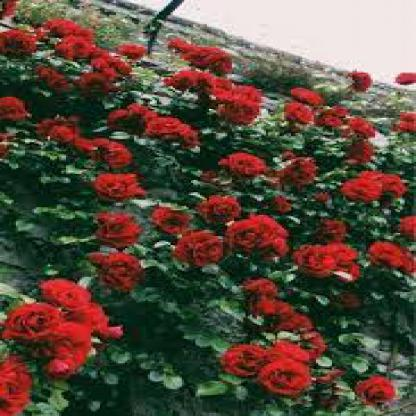Rose-Mawar: (78, 174, 290, 283), (215, 297, 403, 411), (281, 60, 415, 151), (4, 275, 122, 370), (1, 22, 160, 92), (151, 31, 272, 122), (224, 151, 415, 205), (290, 217, 415, 284), (1, 358, 35, 411)
